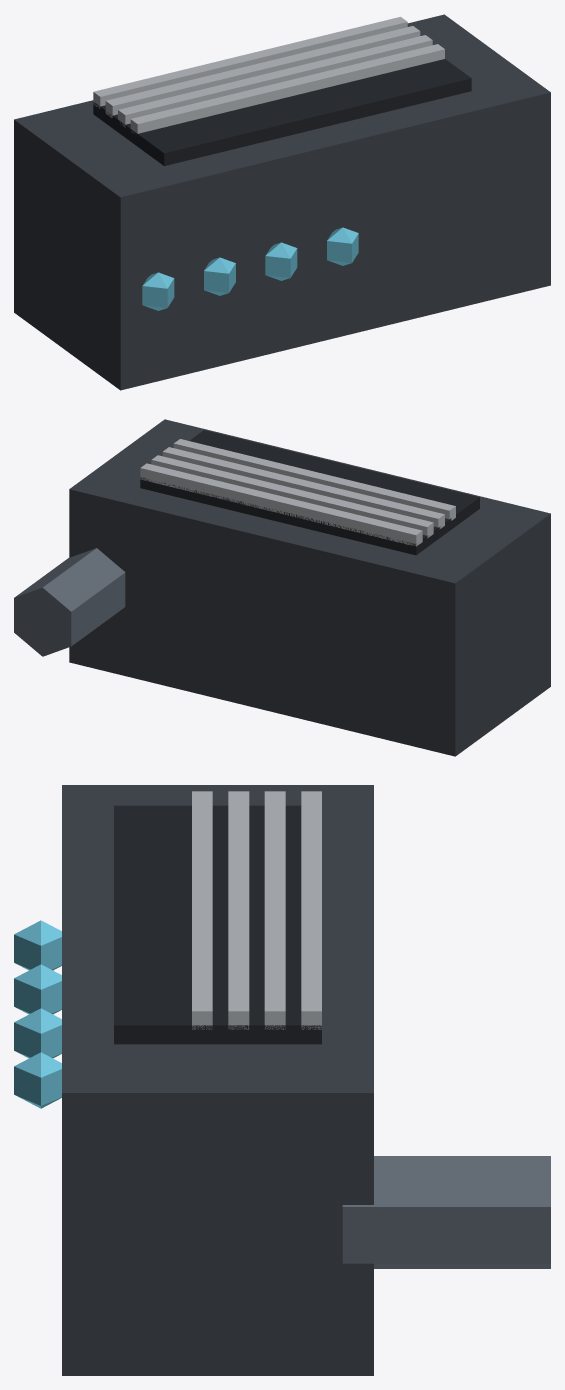
Rendered from droid-vocoder-superior.glb.
The picture shows the model from 3 angles, top to bottom: view 1: azimuth 30°, elevation 25°; view 2: azimuth 150°, elevation 25°; view 3: azimuth 270°, elevation 25°; orthographic projection. The views are drawn at different scales.
Parts seen in each view (by area): view 1: m; view 2: m; view 3: m.
Part boxes in pixels (<box>): m: <box>14,14,550,390</box>; m: <box>14,419,550,756</box>; m: <box>14,785,550,1375</box>.
Size of the model in its own units: 0.1 by 0.0484 by 0.0735.
